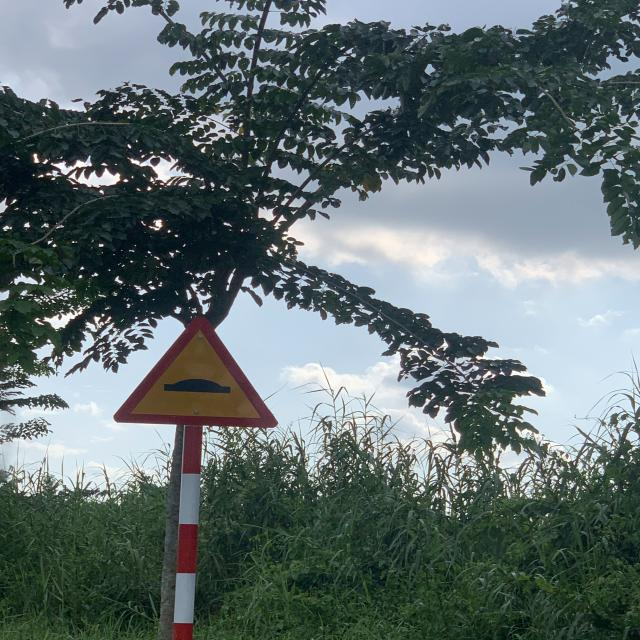Duong_Cong_Ben_Phai: (111, 312, 279, 427)
